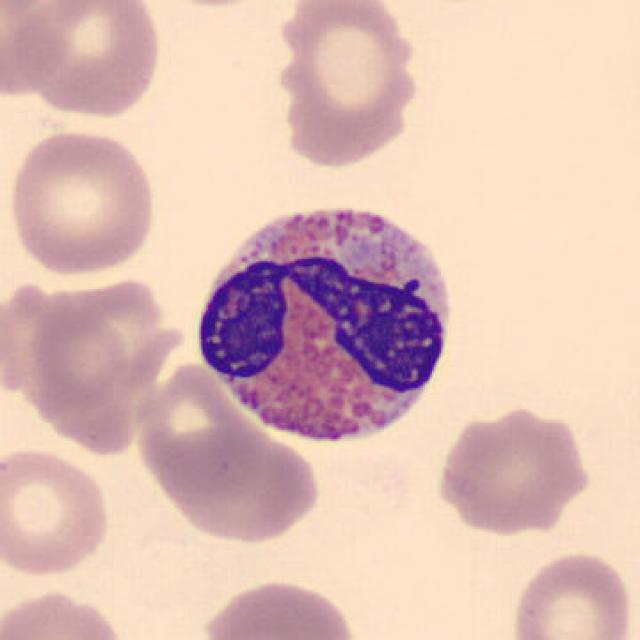Eosinophil: (188, 187, 464, 462)
RBC: (268, 0, 421, 172), (3, 125, 162, 279), (428, 402, 594, 536), (150, 425, 326, 545), (29, 276, 174, 420), (9, 0, 165, 120), (0, 443, 114, 580), (504, 546, 636, 640), (199, 575, 361, 640), (0, 585, 130, 640), (0, 0, 73, 95), (133, 0, 287, 12)
